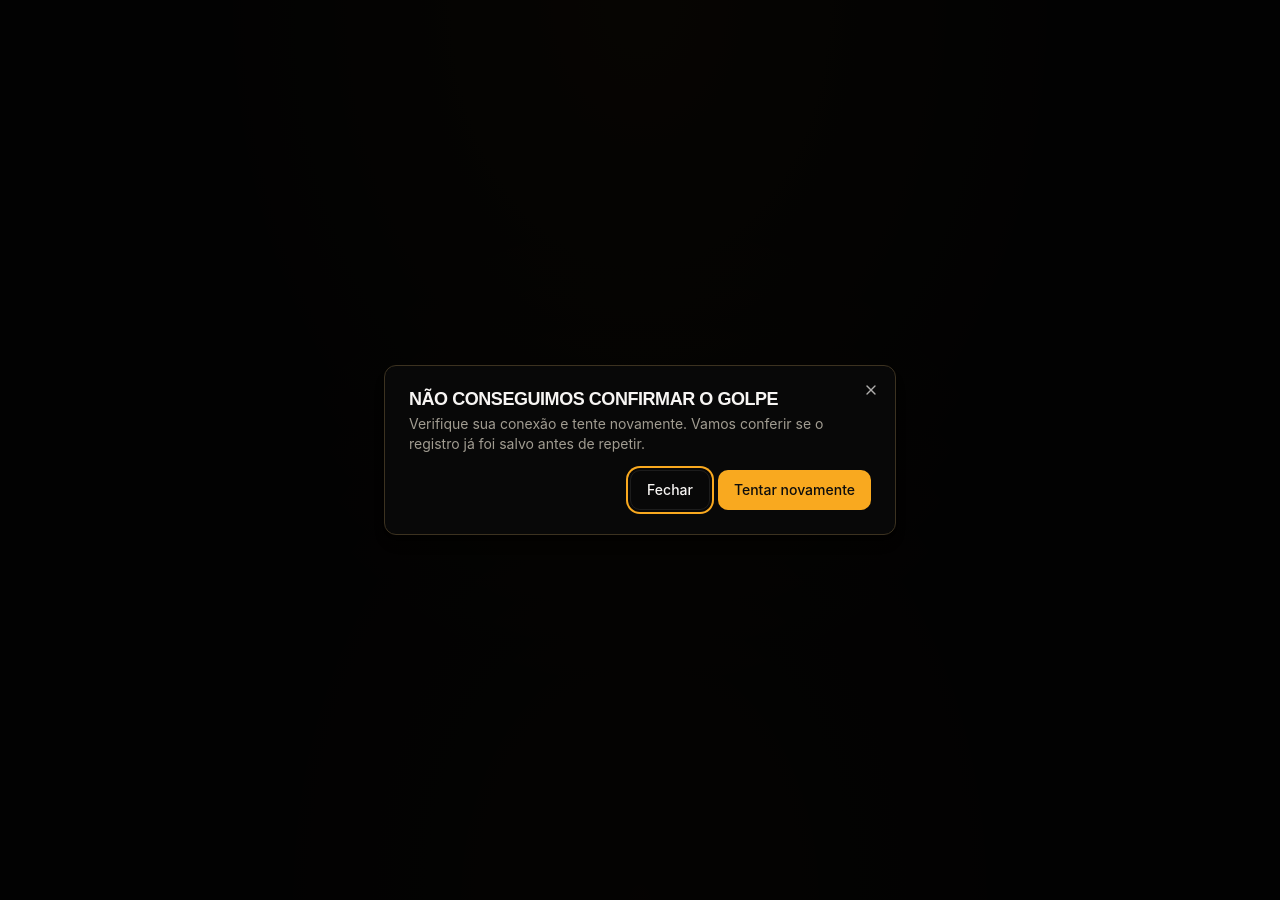
Test: boss persistence regression protection › offers retry on network failure, keeping the original successful action
Expected: the dialog shows "Não conseguimos confirmar o golpe", [409,389,778,409]
Click the button "Tentar novamente". click: {"x": 794, "y": 490}
box: [718,470,871,510]
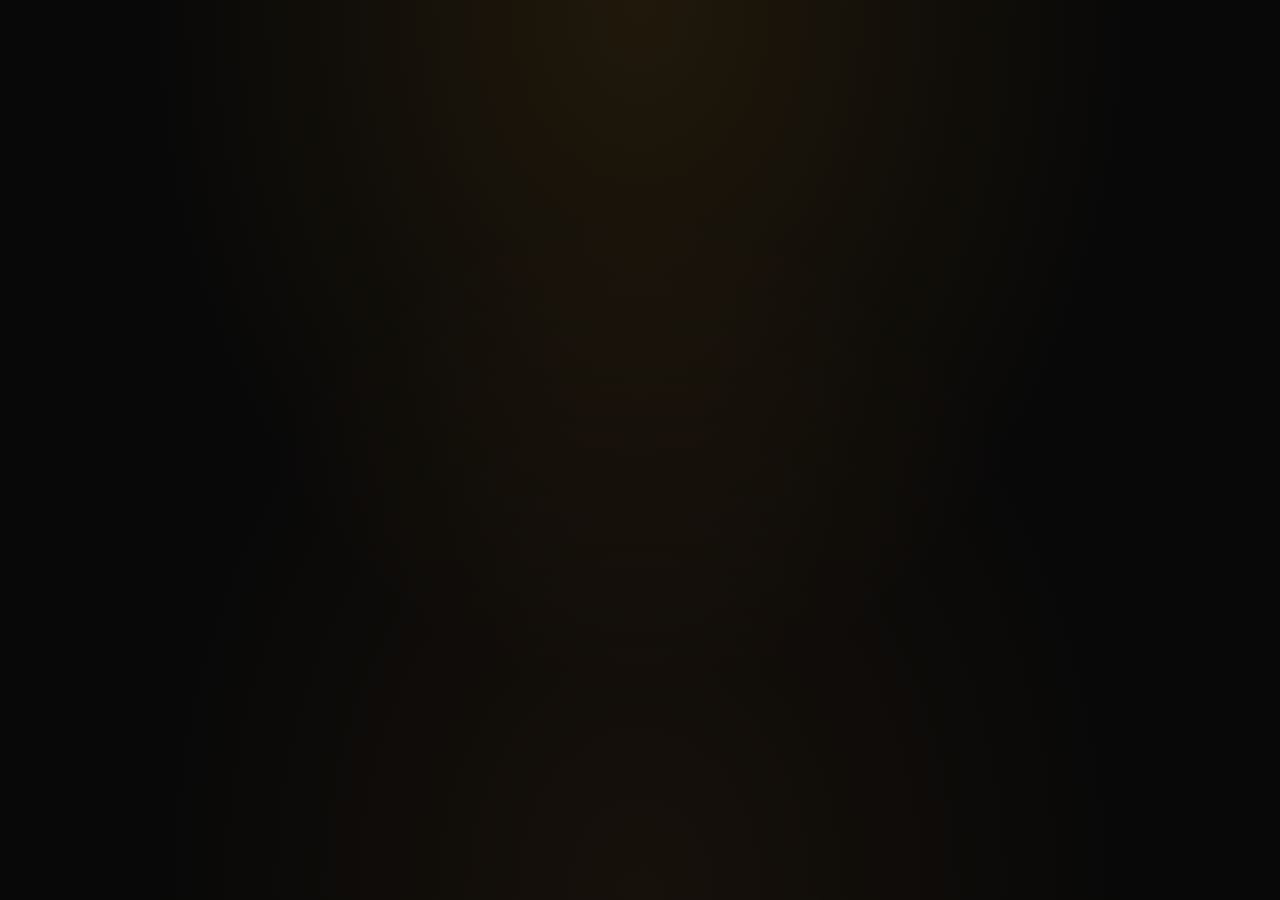
Expected: the dialog is gone
